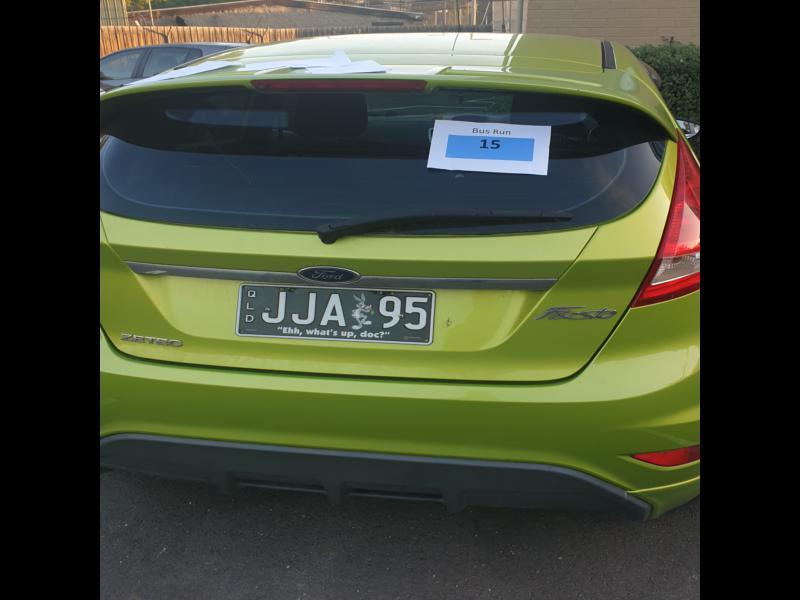BusRun: (444, 134, 534, 160)
PlateNo: (235, 282, 436, 345)
